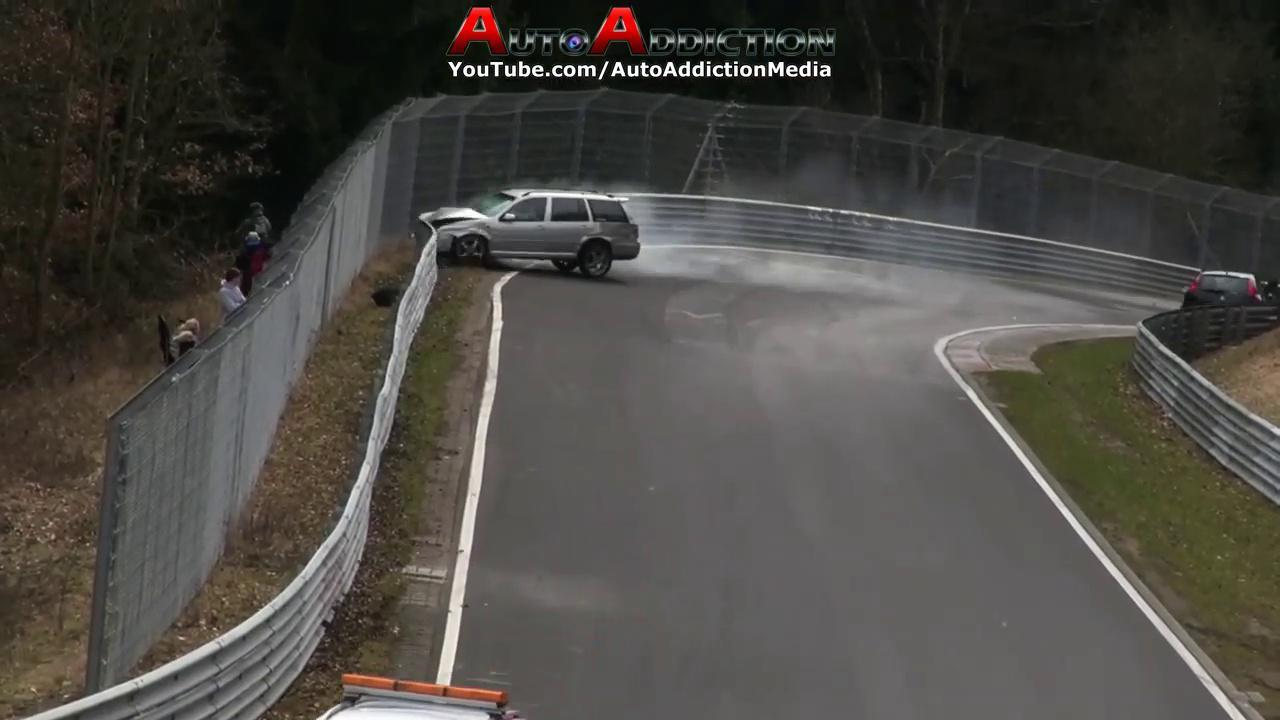car-accident: (368, 165, 664, 283)
